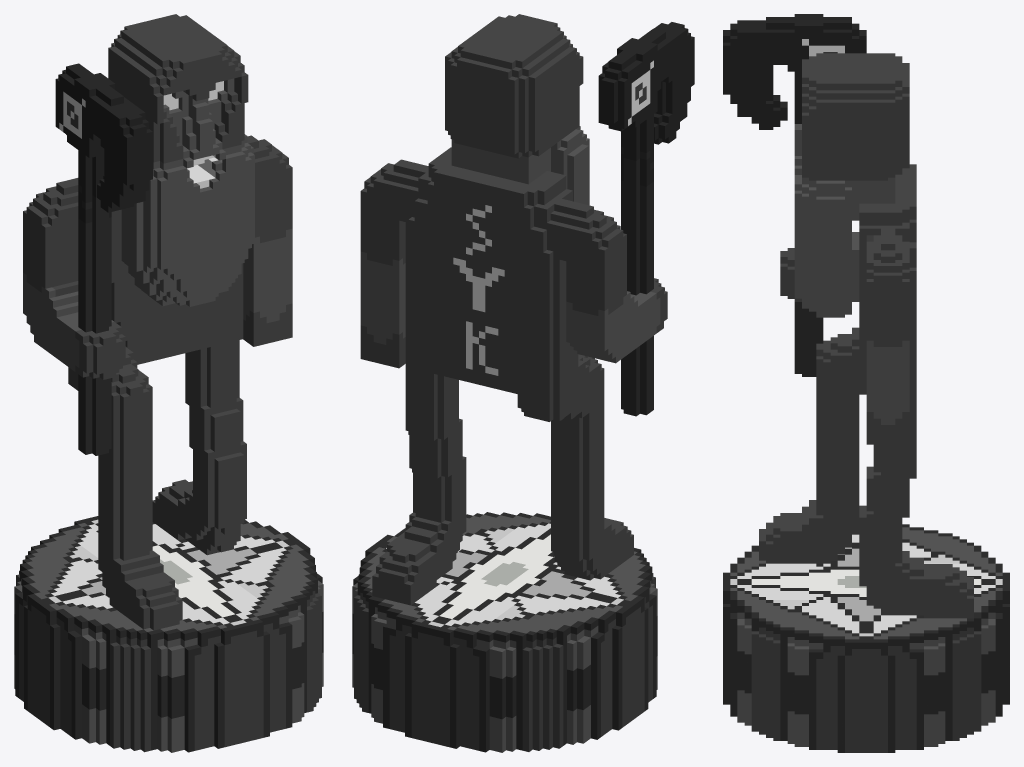
Rendered from golem (близок к игроку (горит).obj.
3 views of the same model, side by side, from view 1: azimuth 30°, elevation 25°; view 2: azimuth 150°, elevation 25°; view 3: azimuth 270°, elevation 25° (orthographic). The views are drawn at different scales.
Bounding box in the file's own units: 4 × 9.6 × 4.
1 material, 1 textured.
